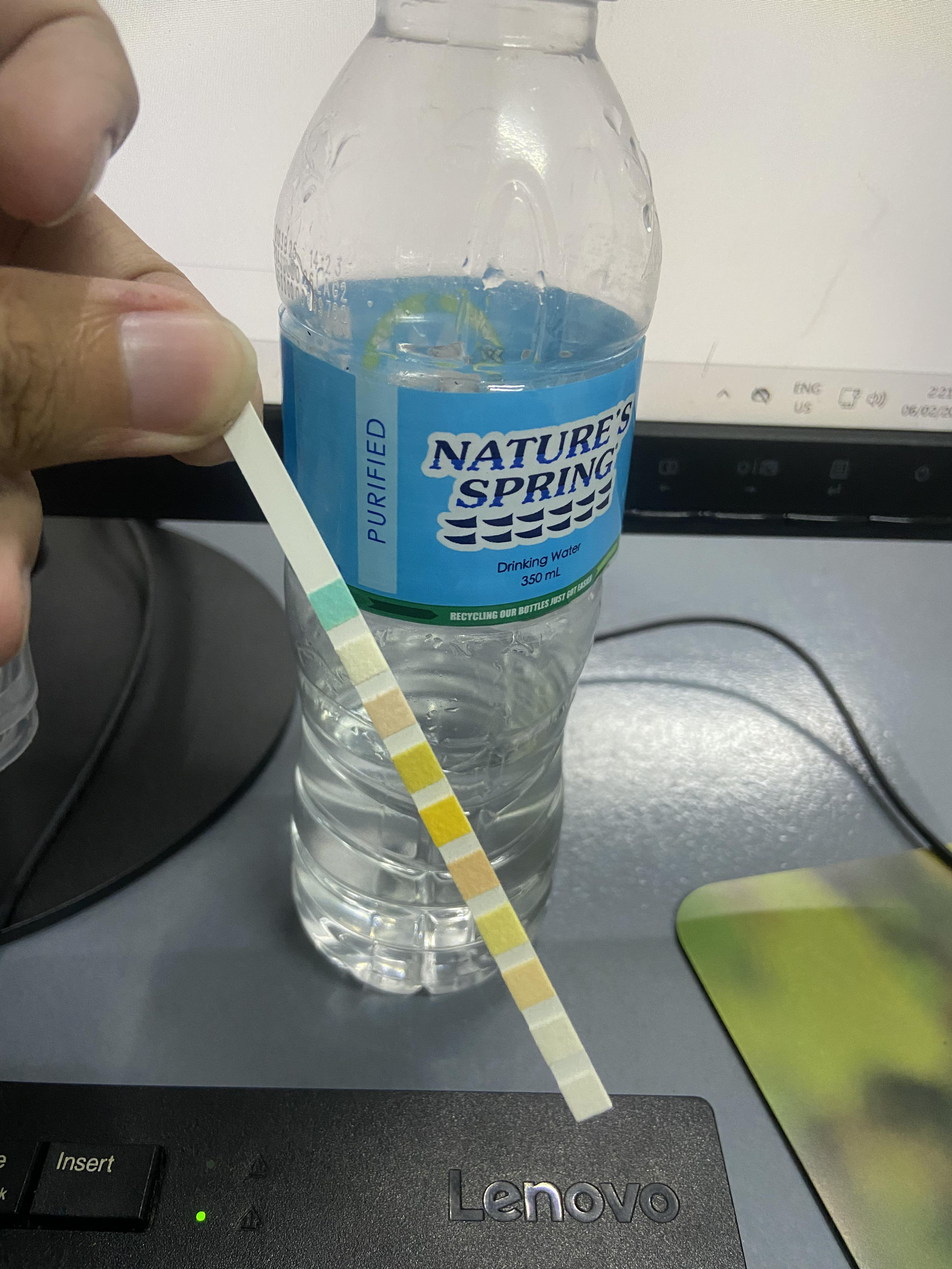Bilirubin: (350, 642, 376, 675)
Blood: (432, 804, 459, 838)
Glucose: (322, 587, 347, 621)
Ketone: (376, 697, 404, 728)
Leukocytes: (571, 1081, 600, 1113)
Nitrite: (542, 1022, 571, 1056)
Protein: (486, 914, 517, 946)
SpGravity: (401, 752, 434, 783)
Urobilinogen: (513, 967, 544, 1001)
pH: (455, 860, 491, 888)
strip: (225, 411, 615, 1124)
